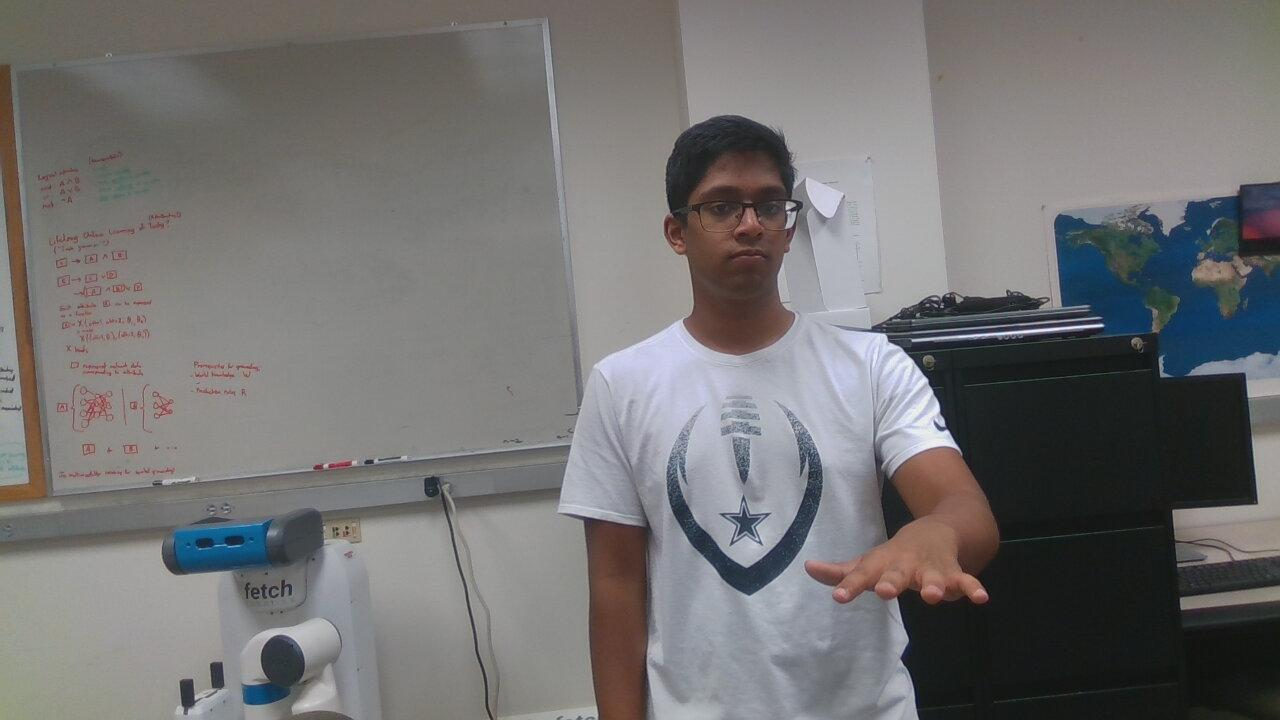hands: (803, 507, 1007, 632)
